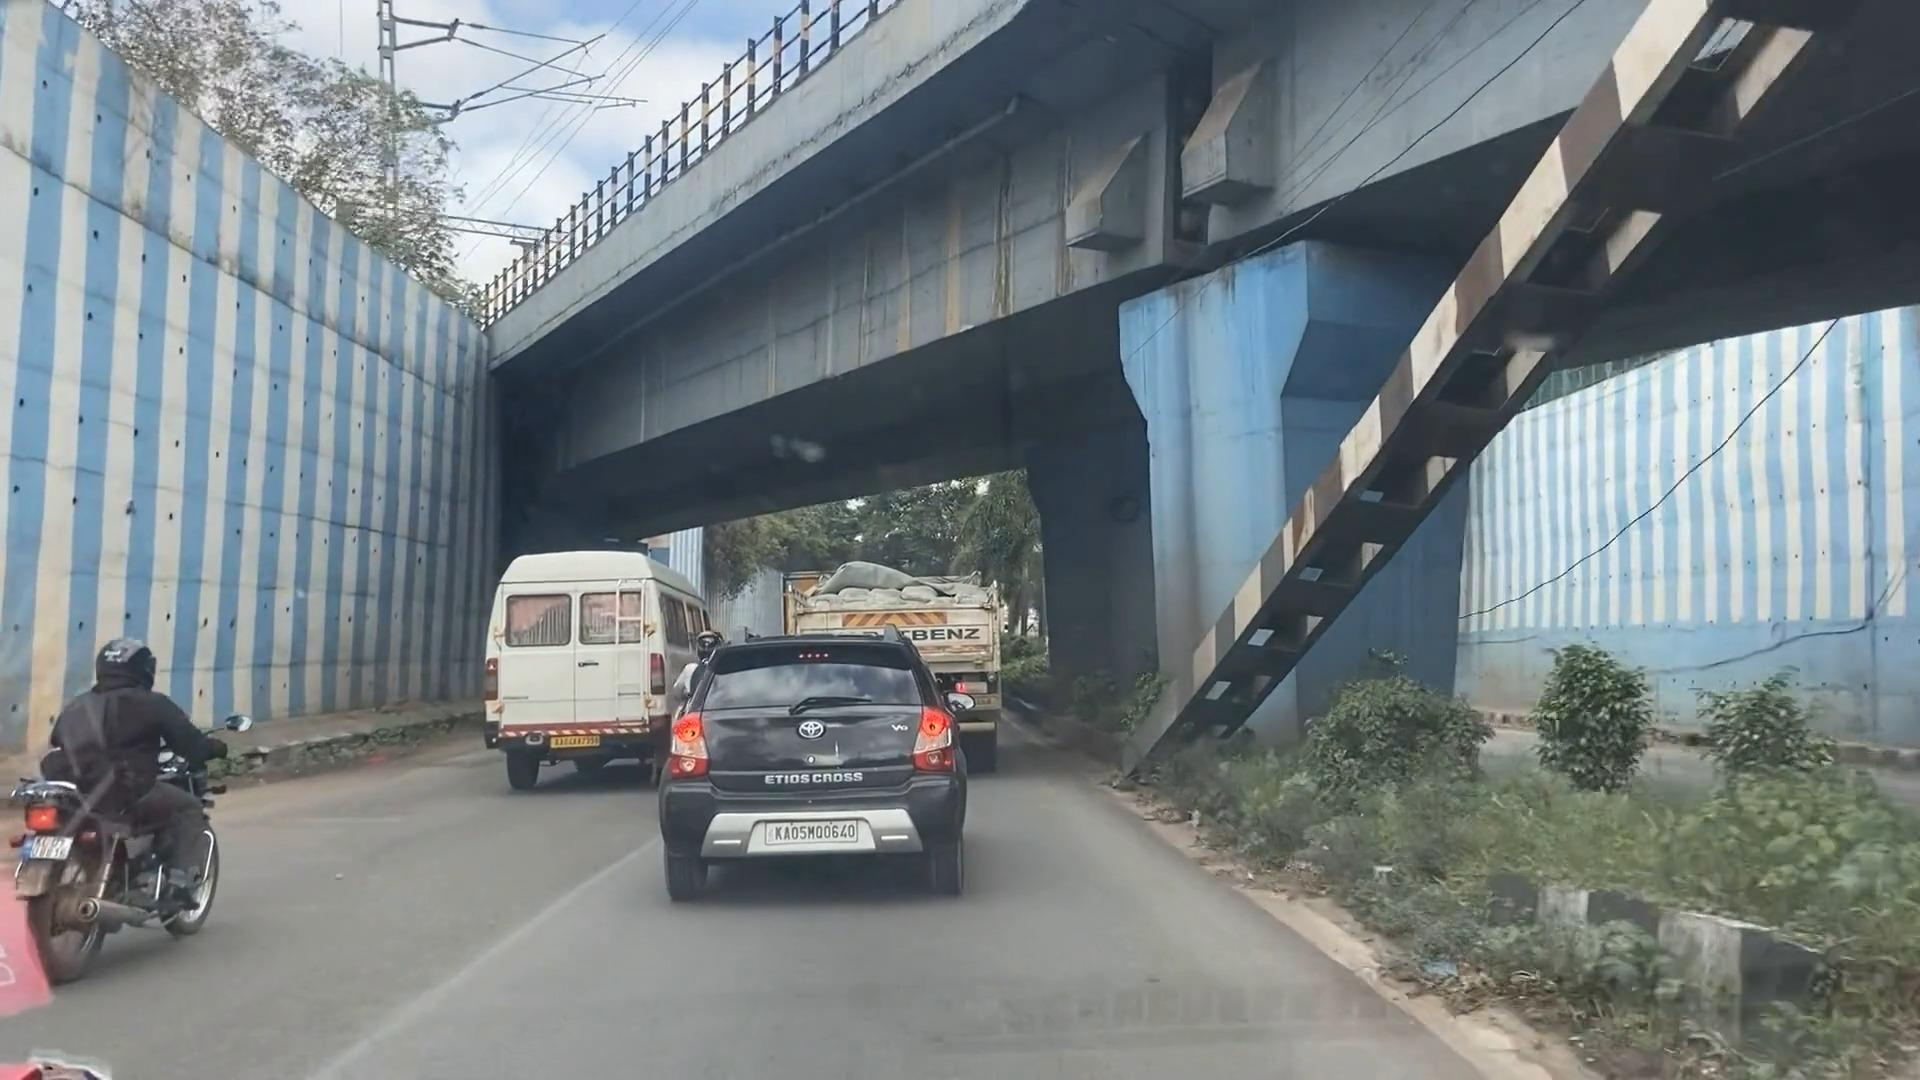HMV: (485, 556, 695, 799)
LMV: (0, 642, 277, 990), (658, 620, 968, 902)
